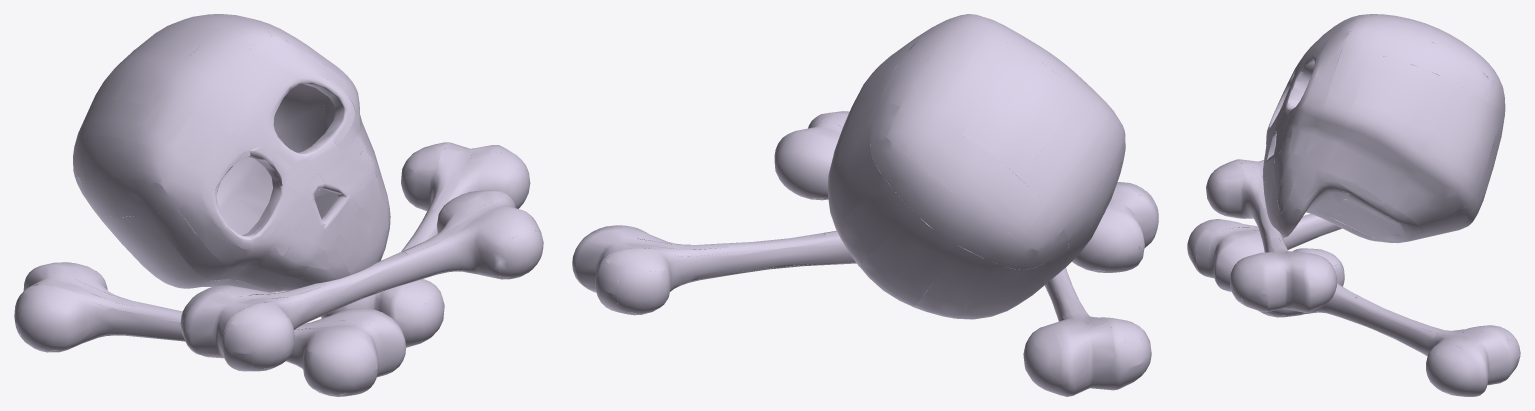
Rendered from skull-and-bones-07593d.glb.
3 views of the same model, side by side, from view 1: azimuth 30°, elevation 25°; view 2: azimuth 150°, elevation 25°; view 3: azimuth 270°, elevation 25° (orthographic). The views are drawn at different scales.
Parts seen in each view (by area): view 1: PropMesh; view 2: PropMesh; view 3: PropMesh.
Boxes of the visible parts, x1=… form: PropMesh: x1=14, y1=14, x2=543, y2=396; PropMesh: x1=572, y1=14, x2=1158, y2=396; PropMesh: x1=1187, y1=14, x2=1520, y2=396.
Size of the model in its own units: 0.5145 by 0.2766 by 0.3346.
1 material, 1 textured.
